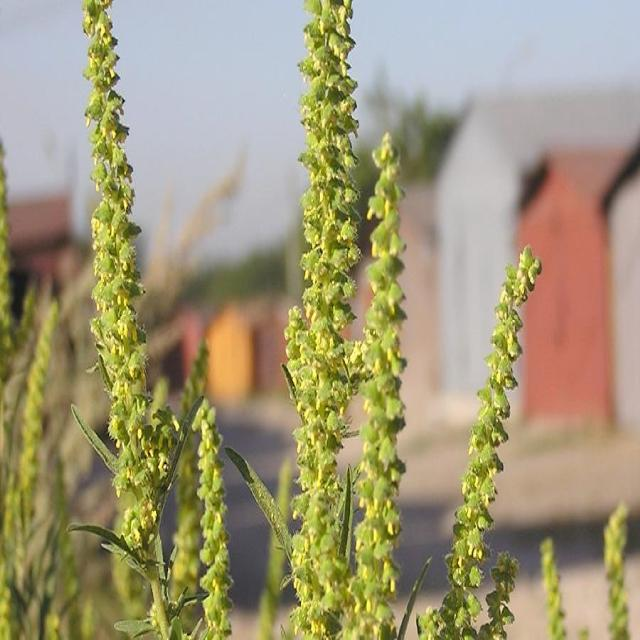ambrosia: (59, 6, 188, 636), (279, 0, 365, 640), (440, 204, 533, 640), (358, 131, 422, 640), (186, 380, 239, 640)
